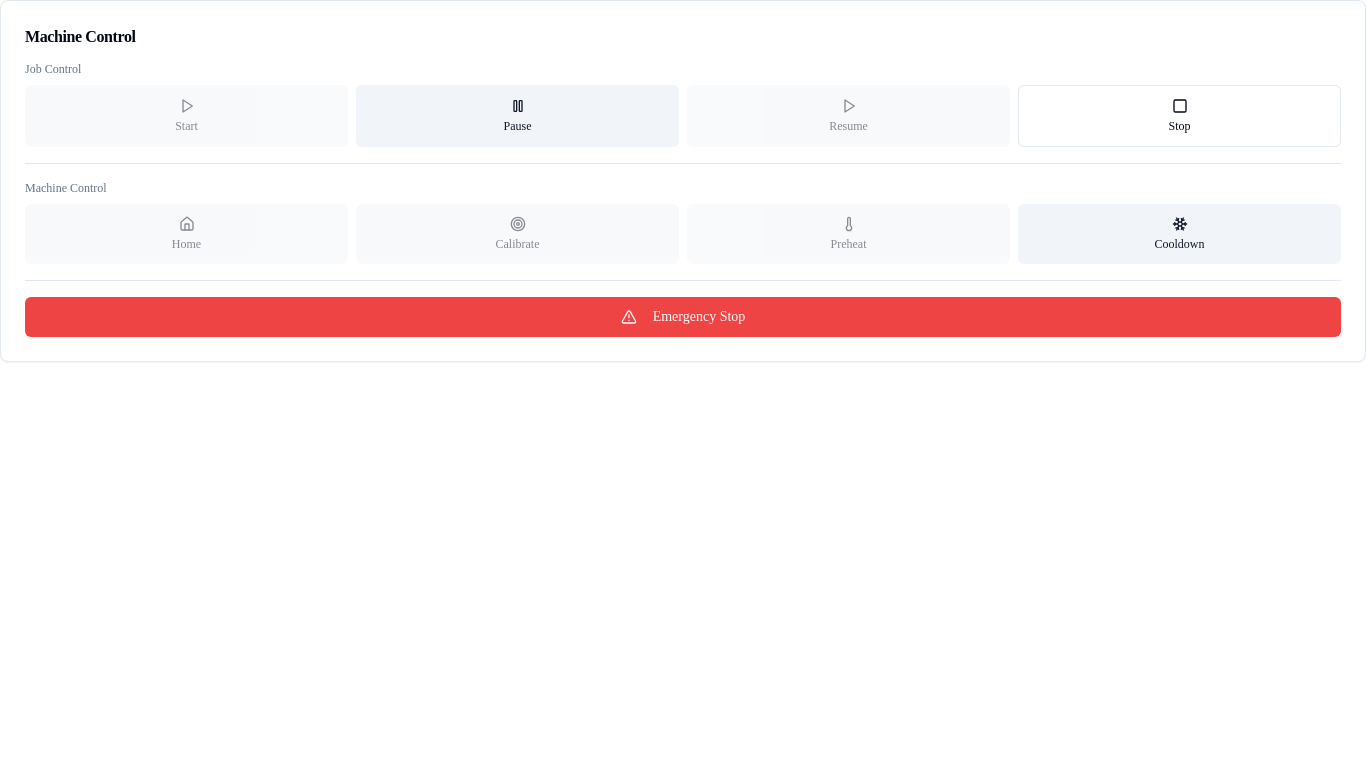
Test: MachineControlPanel › shows confirmation dialog when Emergency Stop is clicked
Click the button "Emergency Stop" at x=683, y=317, box [25,297,1341,337]
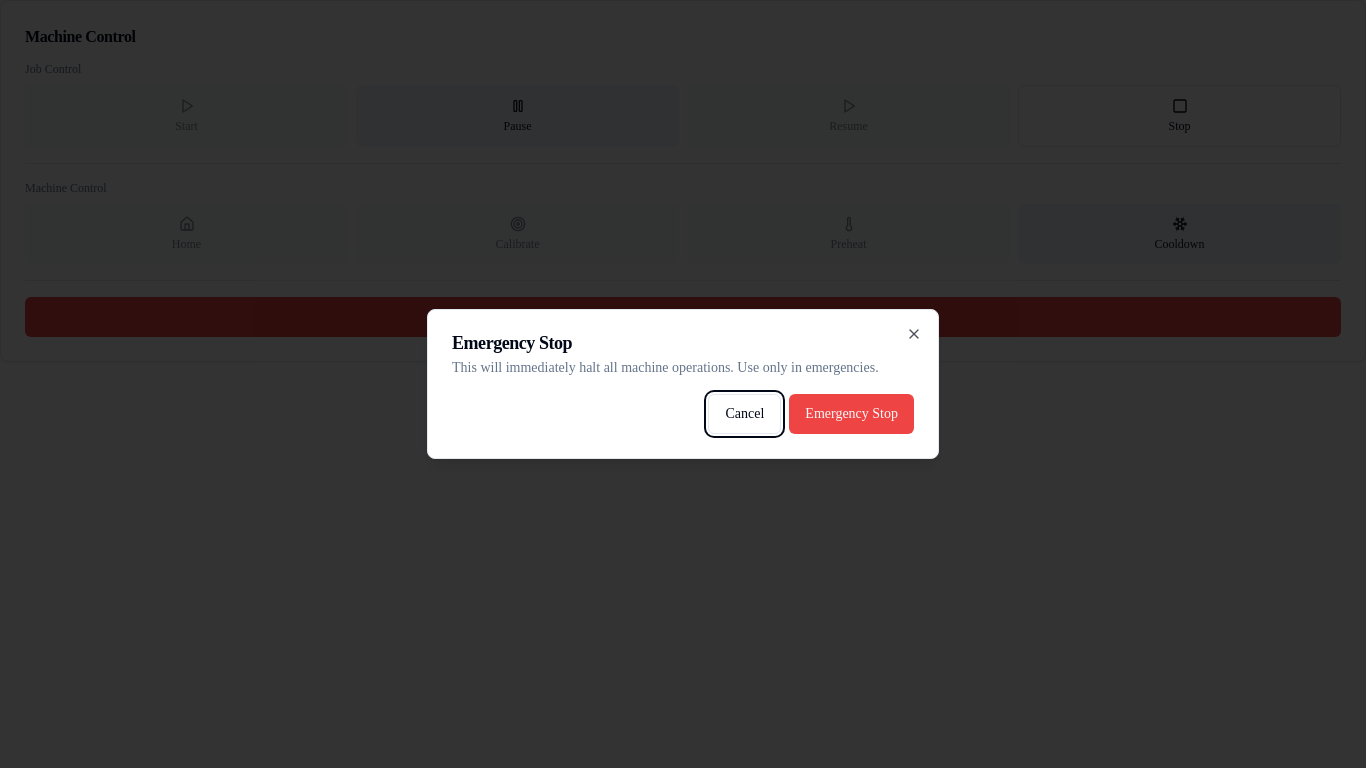
Expected: the text "This will immediately halt all machine operations. Use only in emergencies." is shown, [452,358,914,378]
